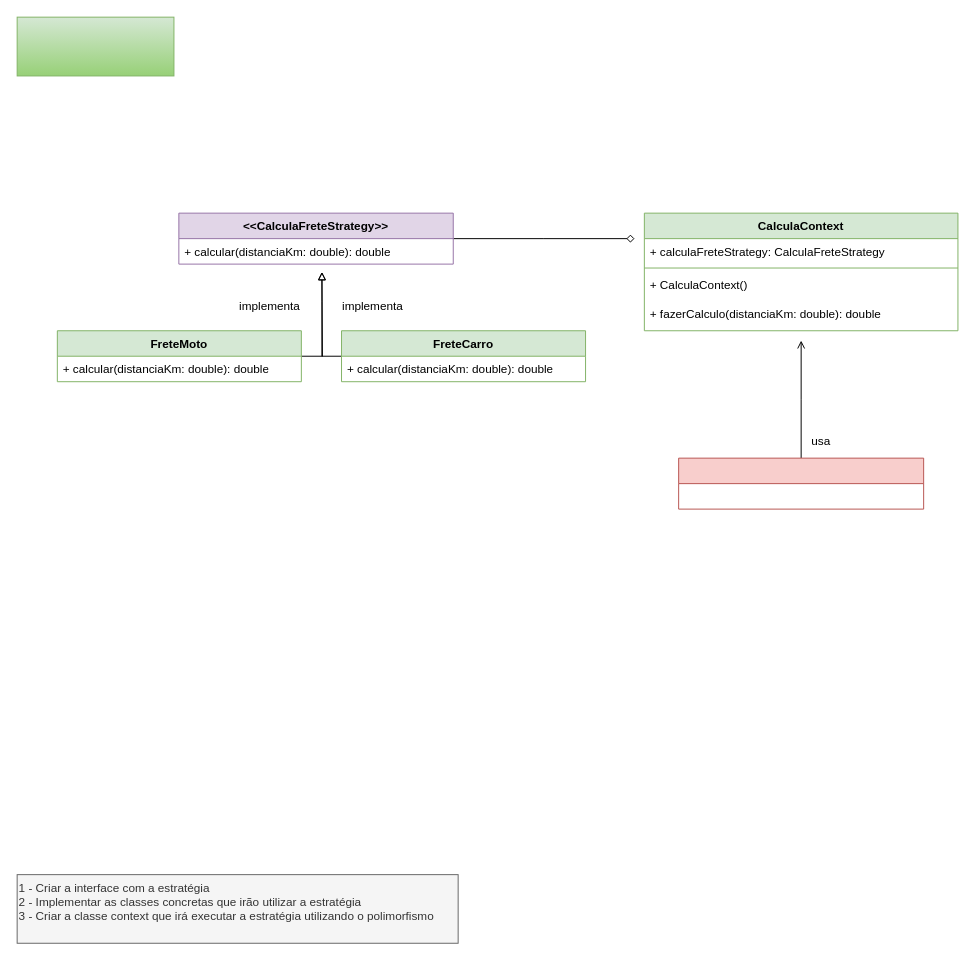
Some shapes in this 975 by 960 pixel diagram are drawn without their labels. Here are the shapes that lost their labels. From the top down, the centre of each, then its label:
point (95, 46): Strategy
point (801, 483): Cliente
